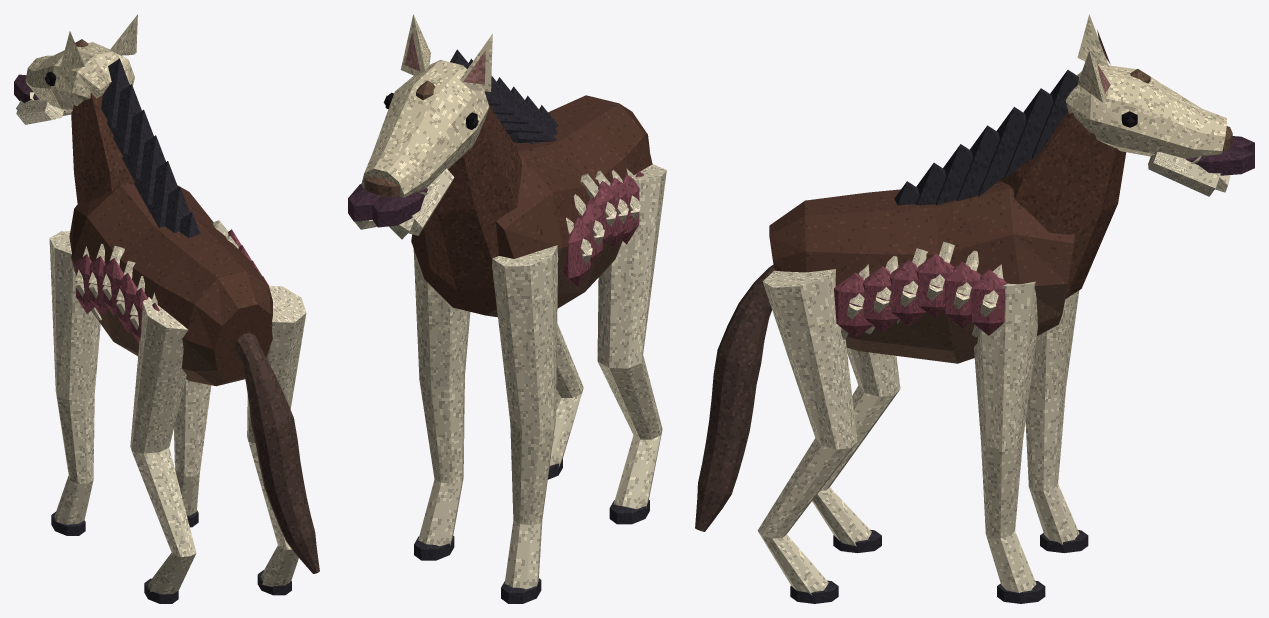
The model's file is mon_zombie_horse.glb.
The picture shows the model from 3 angles, left to right: view 1: azimuth 30°, elevation 25°; view 2: azimuth 150°, elevation 25°; view 3: azimuth 270°, elevation 25°; orthographic projection. The views are drawn at different scales.
Visible parts, largest first — view 1: closed_body; view 2: closed_body; view 3: closed_body.
Part boxes in pixels (left/top/right/bottom): closed_body: left=14, top=14, right=319, bottom=603; closed_body: left=348, top=14, right=666, bottom=603; closed_body: left=695, top=14, right=1254, bottom=603.
Size of the model in its own units: 0.9773 by 3.1 by 2.89.
Materials: 1 (1 with a texture image).
